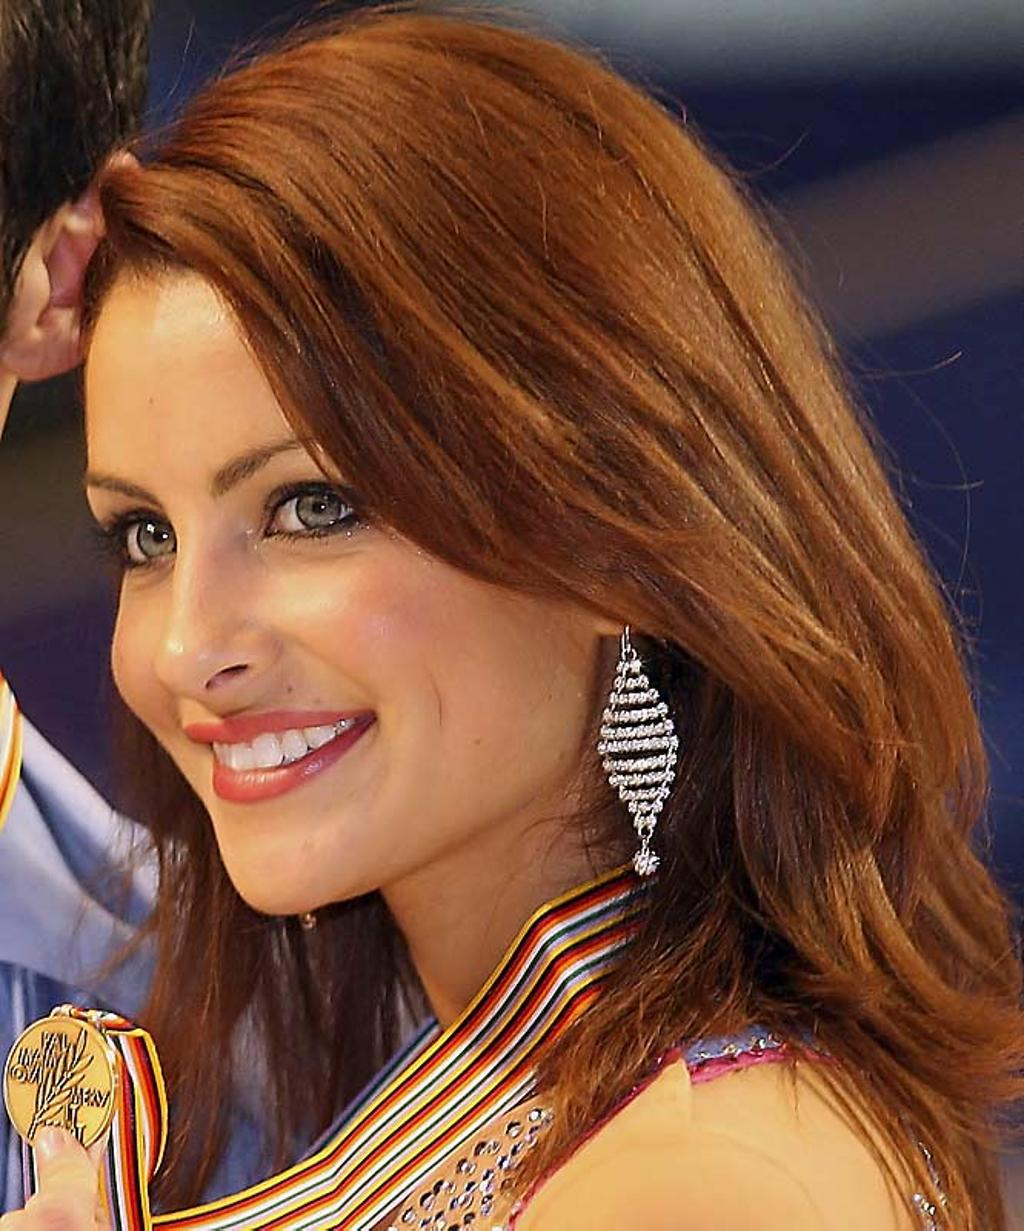face: (84, 250, 582, 916)
